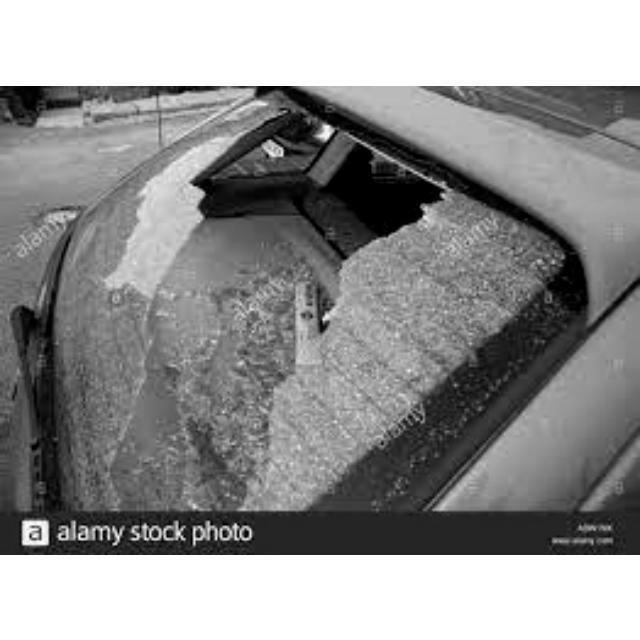Rear-windscreen-Damage: (17, 88, 537, 510)
